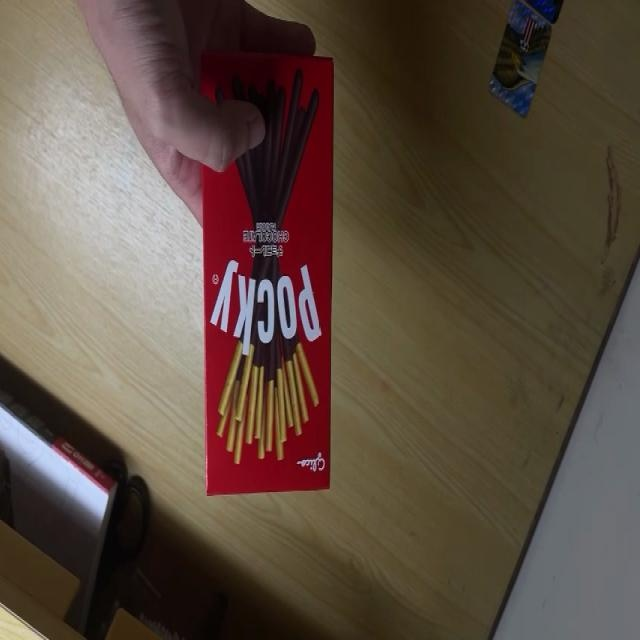Pocky: (194, 50, 334, 498)
